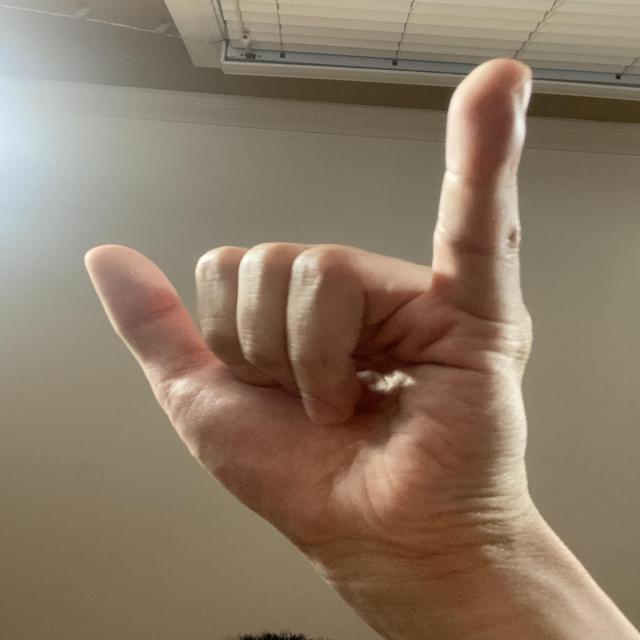Y: (74, 47, 554, 560)
